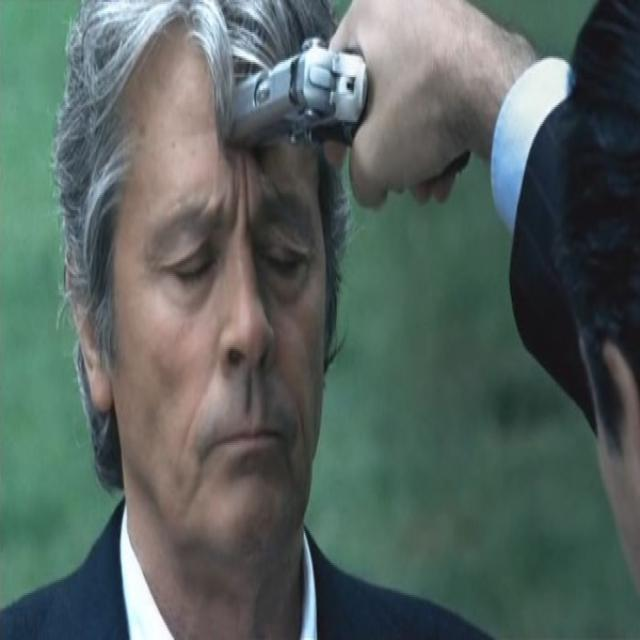weapons: (210, 8, 427, 177)
